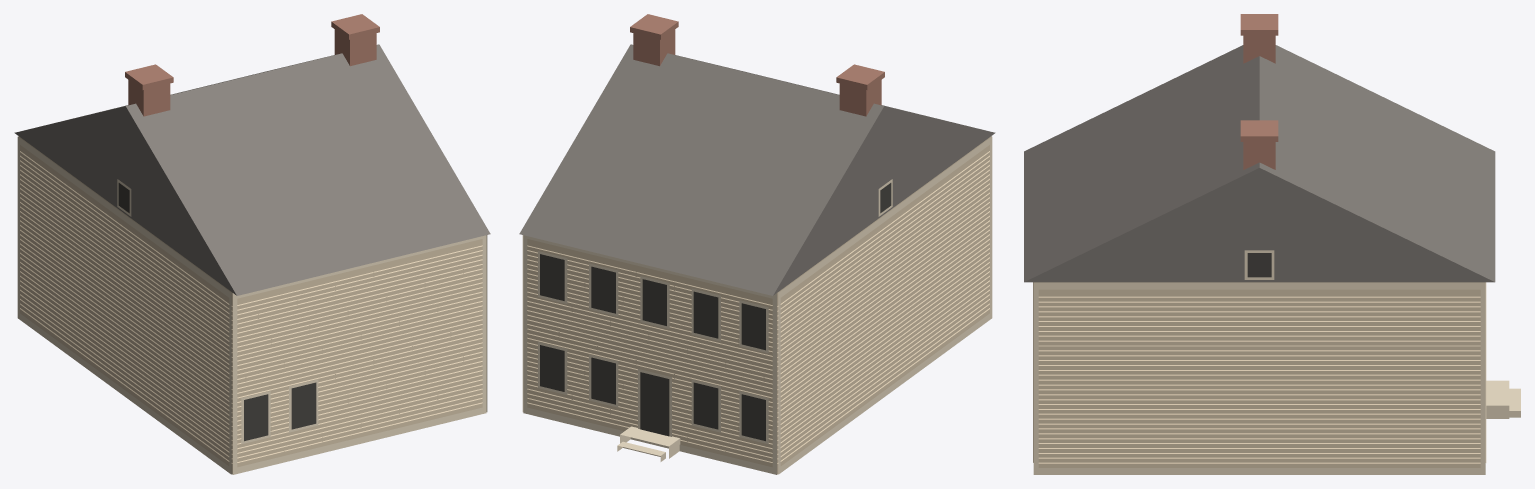
The model's file is recon_1835_blk_randolph_clark_h2_02__inferred_1835.glb.
3 views of the same model, side by side, from view 1: azimuth 30°, elevation 25°; view 2: azimuth 150°, elevation 25°; view 3: azimuth 270°, elevation 25° (orthographic). The views are drawn at different scales.
Parts seen in each view (by area): view 1: recon_1835_blk_randolph_clark_h2_02__inferred_1835; view 2: recon_1835_blk_randolph_clark_h2_02__inferred_1835; view 3: recon_1835_blk_randolph_clark_h2_02__inferred_1835.
Part boxes in pixels (x1,y1,x2,y2): recon_1835_blk_randolph_clark_h2_02__inferred_1835: [14, 14, 490, 474]; recon_1835_blk_randolph_clark_h2_02__inferred_1835: [519, 14, 995, 474]; recon_1835_blk_randolph_clark_h2_02__inferred_1835: [1024, 14, 1520, 474].
Size of the model in its own units: 8.14 by 9.58 by 12.92.
